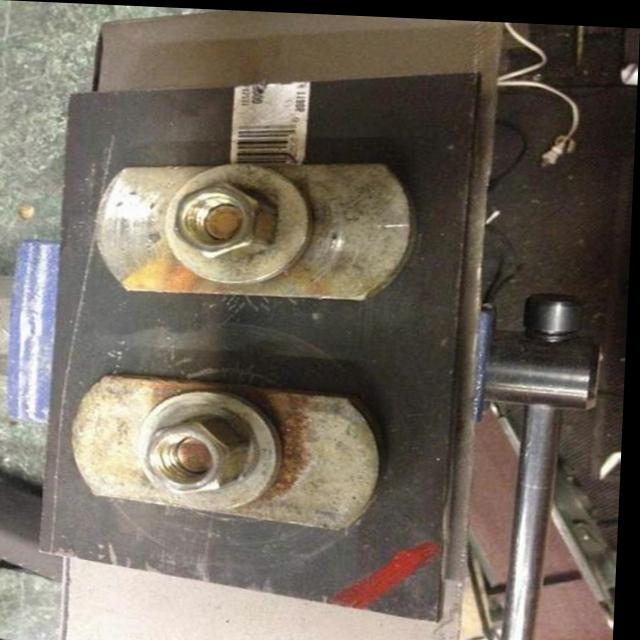Regular bolt: (148, 413, 255, 496), (175, 178, 282, 260)
